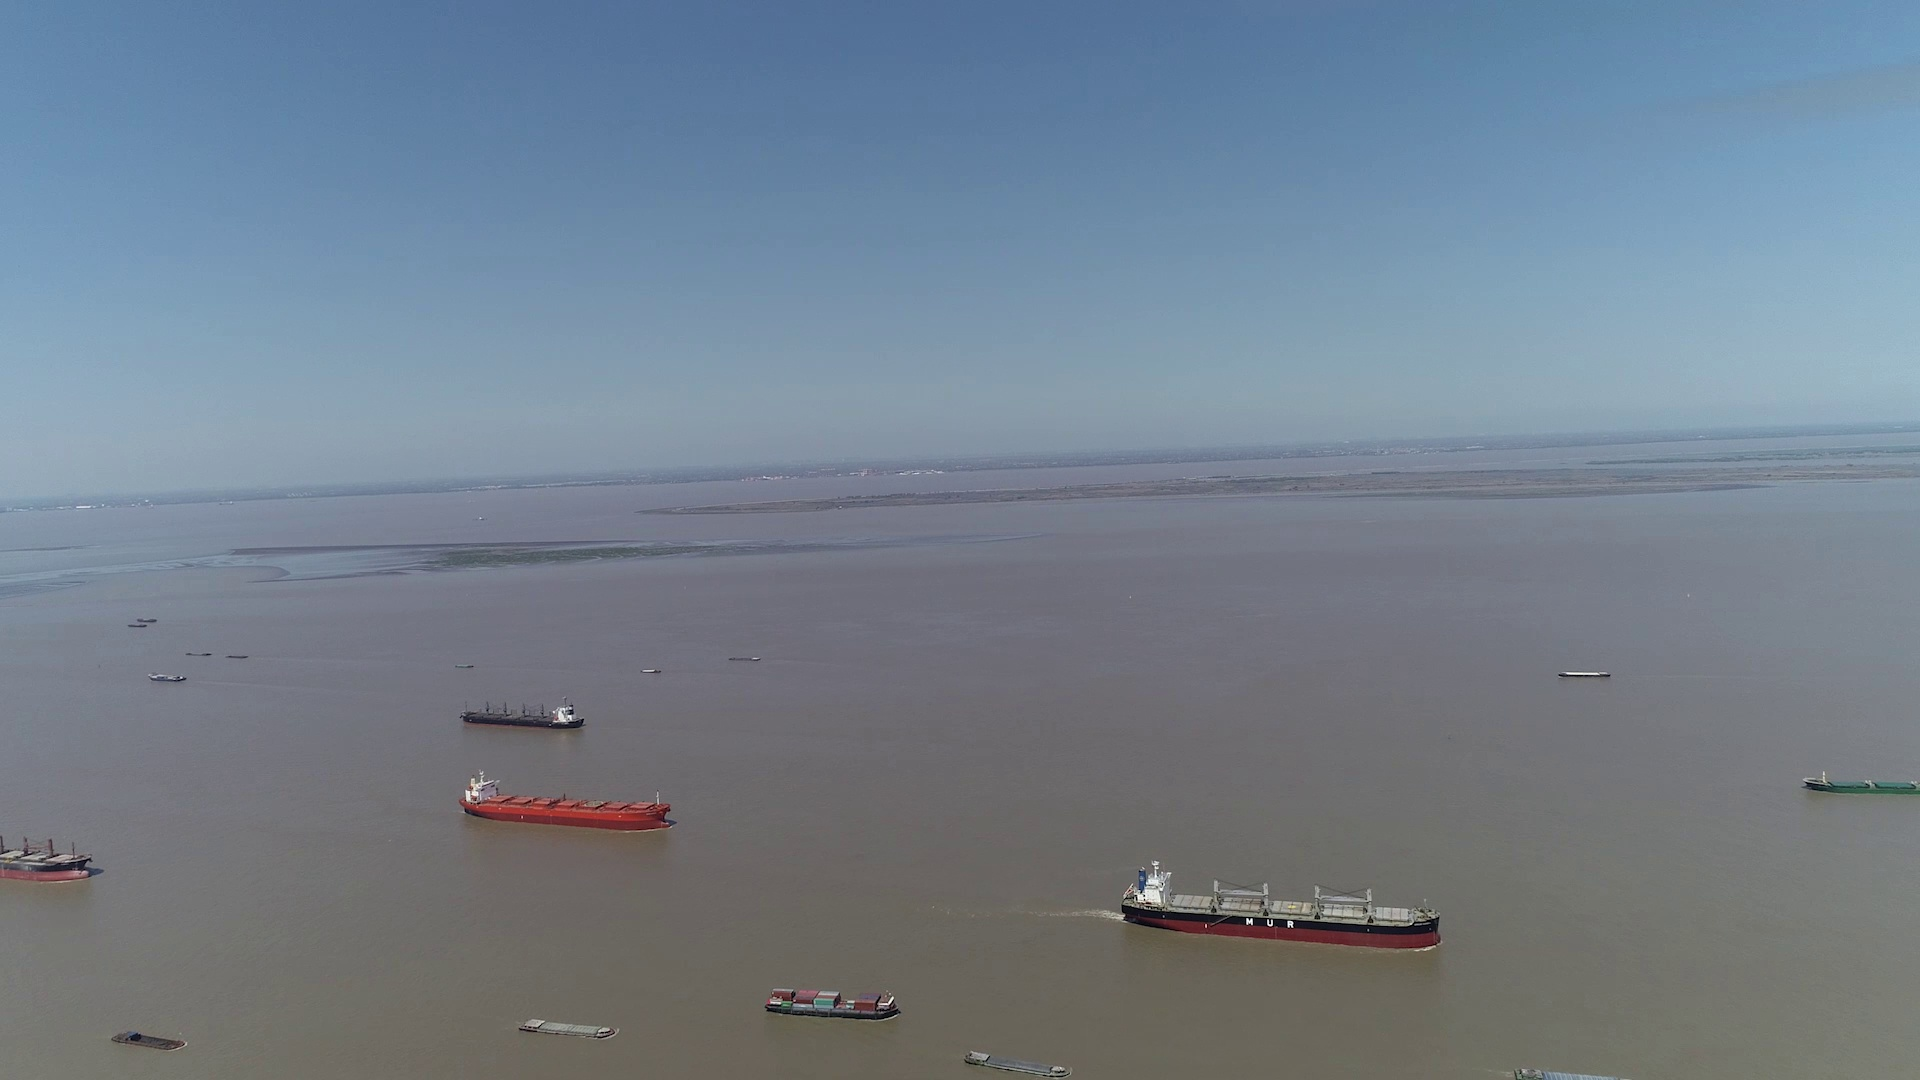ship: (1121, 862, 1444, 949), (459, 767, 671, 831), (1, 824, 94, 884), (766, 988, 901, 1021), (462, 696, 584, 728), (965, 1048, 1069, 1077), (1801, 773, 1917, 796), (520, 1018, 616, 1040), (112, 1031, 187, 1050), (1516, 1065, 1619, 1079), (1563, 669, 1611, 678), (146, 673, 185, 683)
